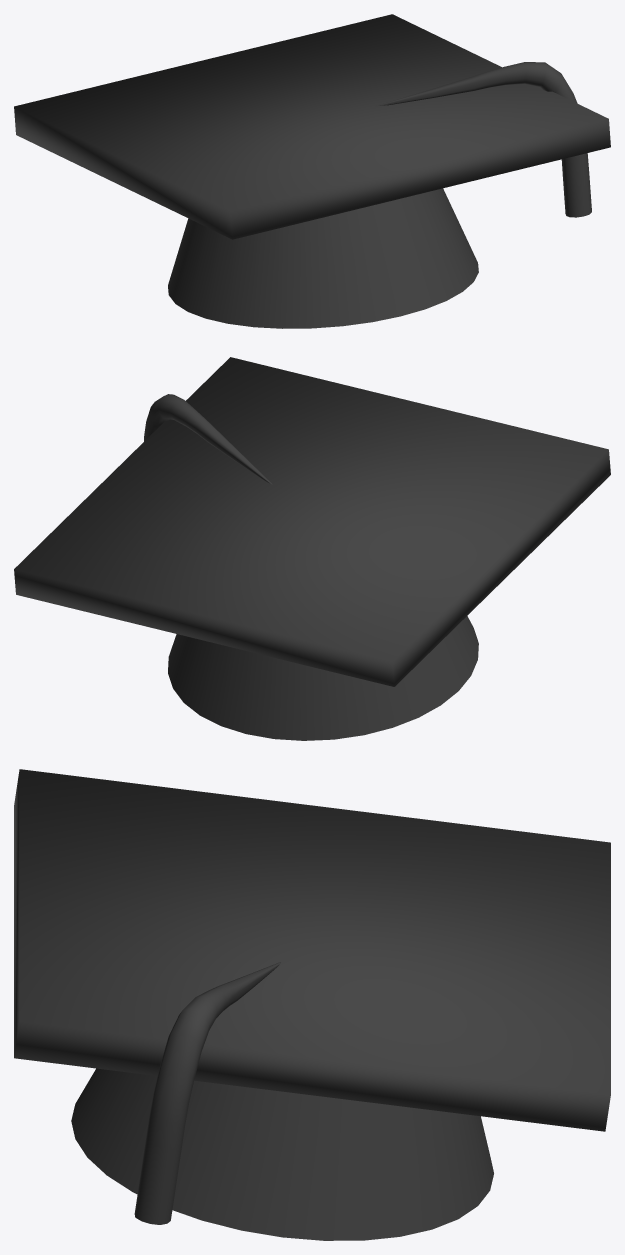
The model's file is hat.fbx.
The picture shows the model from 3 angles, top to bottom: view 1: azimuth 30°, elevation 25°; view 2: azimuth 150°, elevation 25°; view 3: azimuth 270°, elevation 25°; orthographic projection. The views are drawn at different scales.
Visible parts, largest first — view 1: MeshBaker1_mesh; view 2: MeshBaker1_mesh; view 3: MeshBaker1_mesh.
Part boxes in pixels (x1,y1,x2,y2): MeshBaker1_mesh: (14, 14, 610, 328); MeshBaker1_mesh: (14, 357, 610, 740); MeshBaker1_mesh: (14, 769, 610, 1240).
Size of the model in its own units: 36.37 by 18.21 by 33.68.
